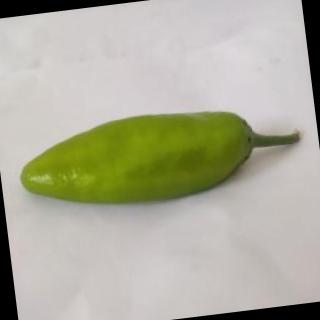Cabai Hijau: (9, 94, 315, 221)
